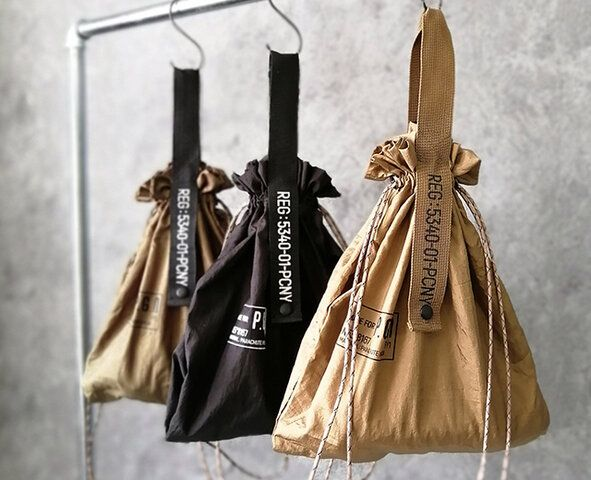nylon: (81, 129, 550, 464)
